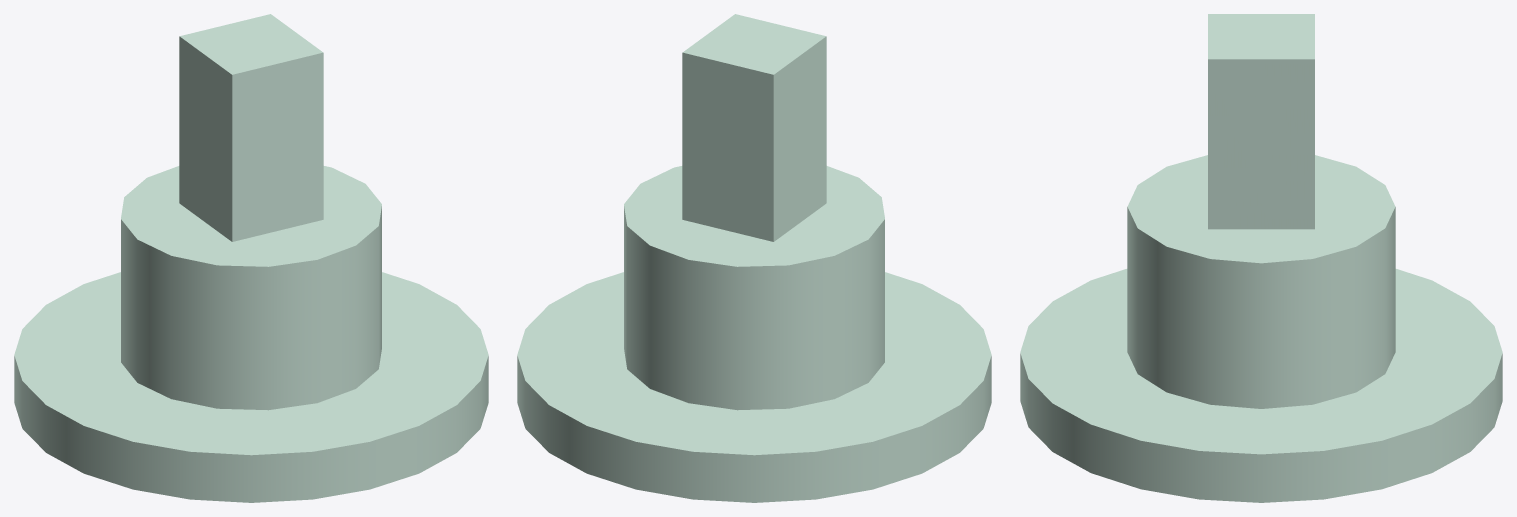
File: lidar_vision.gltf
The picture shows the model from 3 angles, left to right: view 1: azimuth 30°, elevation 25°; view 2: azimuth 150°, elevation 25°; view 3: azimuth 270°, elevation 25°; orthographic projection.
Visible parts, largest first — view 1: lidar_vision; view 2: lidar_vision; view 3: lidar_vision.
Boxes of the visible parts, left/top/right/bottom form: lidar_vision: left=14, top=14, right=488, bottom=502; lidar_vision: left=517, top=14, right=991, bottom=502; lidar_vision: left=1020, top=14, right=1502, bottom=502.
Bounding box in the file's own units: 0.9 × 0.75 × 0.9.
